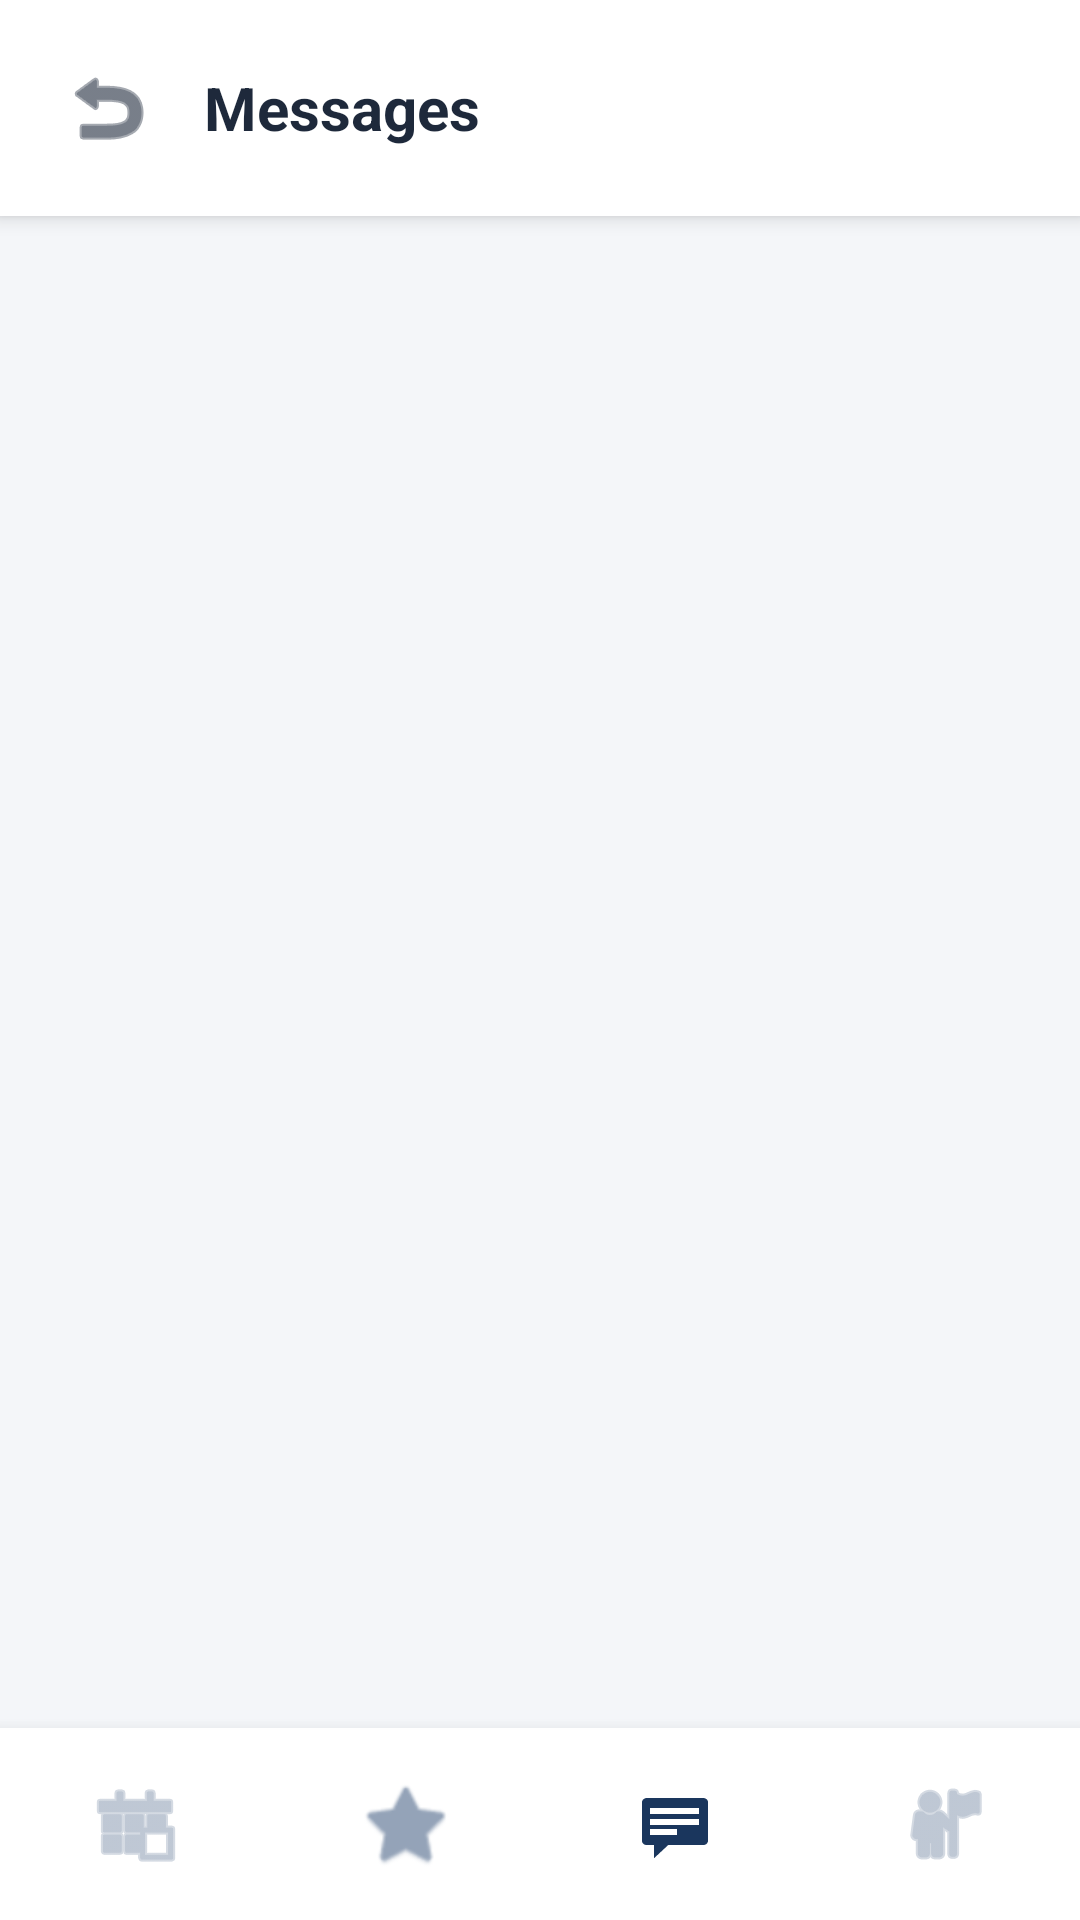

Named icons in this screenshot (1080px x 1920px) and their bounding boxes, (x1, y1, x2, y2):
Back: (75, 77, 144, 140)
Chat: (642, 1798, 708, 1858)
Saved: (367, 1787, 445, 1863)
